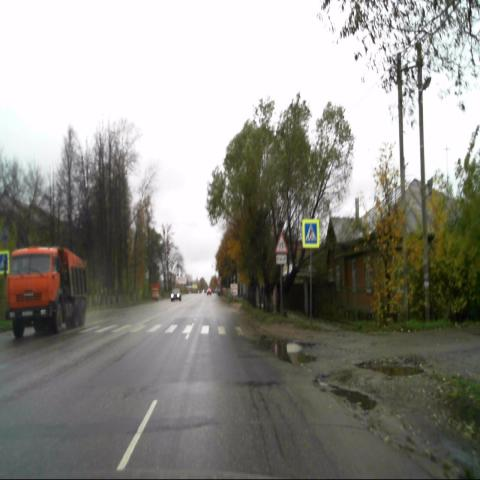1_23: (274, 232, 288, 254)
5_19_1: (304, 222, 317, 245), (0, 253, 8, 271)
